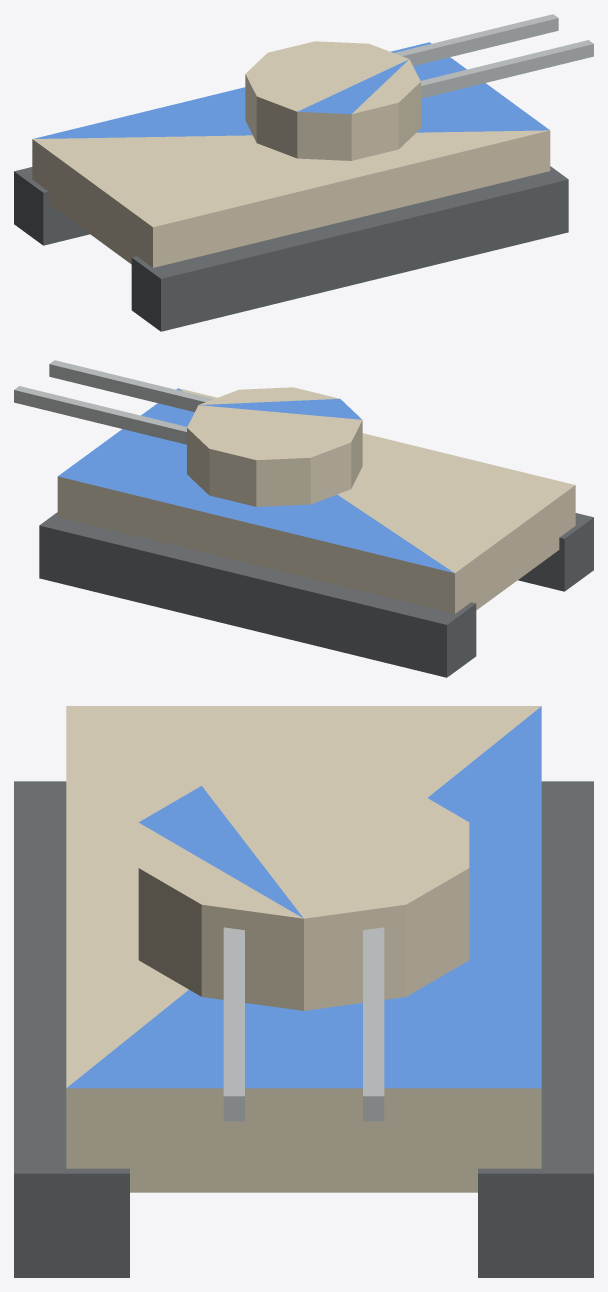
Rendered from meridian_heavy_tank.glb.
The picture shows the model from 3 angles, top to bottom: view 1: azimuth 30°, elevation 25°; view 2: azimuth 150°, elevation 25°; view 3: azimuth 270°, elevation 25°; orthographic projection. The views are drawn at different scales.
Visible parts, largest first — view 1: hull, turret, barrel; view 2: hull, turret, barrel; view 3: hull, turret, barrel.
Part boxes in pixels (x1,y1,x2,y2): hull: [14, 42, 568, 331]; turret: [245, 41, 420, 160]; barrel: [394, 14, 593, 98]; hull: [39, 388, 593, 677]; turret: [187, 387, 362, 506]; barrel: [14, 360, 213, 444]; hull: [14, 706, 593, 1277]; turret: [138, 771, 469, 1010]; barrel: [223, 927, 384, 1121].
Size of the model in its own units: 7.25 by 2 by 3.8.
